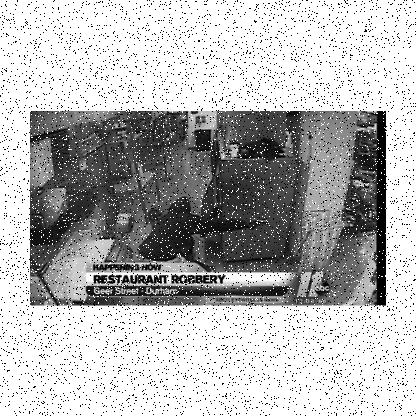gun: (245, 216, 268, 230)
